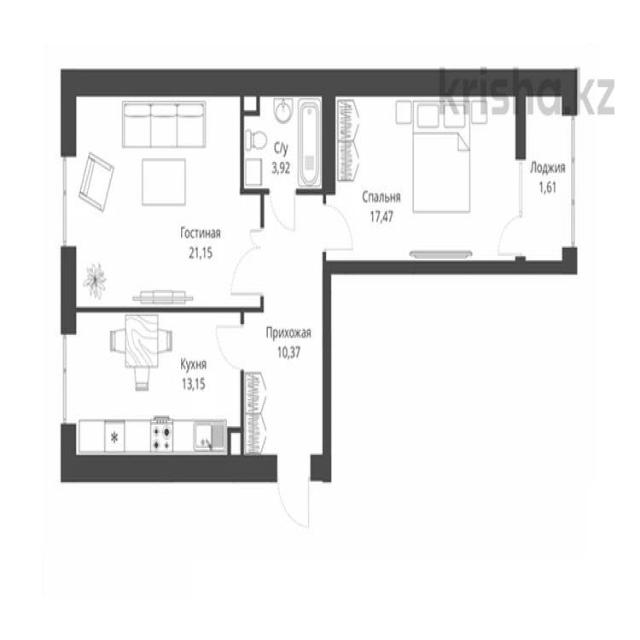balcony: (528, 80, 574, 268)
bathroom: (242, 82, 326, 192)
hallway: (250, 189, 328, 472)
kitchen: (67, 313, 244, 466)
living_room: (69, 79, 244, 308), (330, 79, 522, 267)
